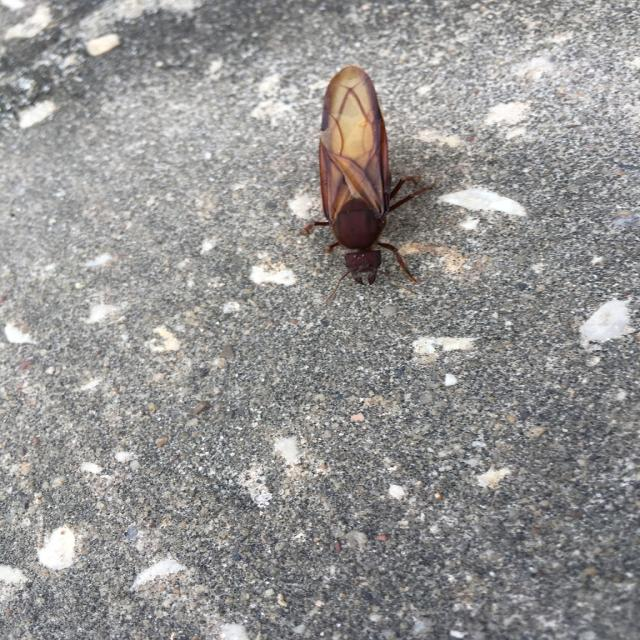Alive-Female-Alate: (296, 65, 442, 304)
